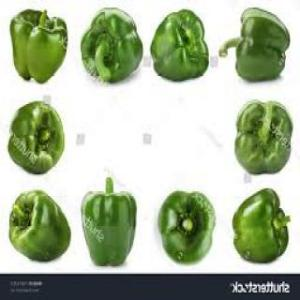bell_pepper: (76, 172, 143, 270), (2, 95, 68, 186), (154, 183, 222, 268), (218, 9, 292, 87), (229, 98, 299, 180), (74, 8, 142, 90), (146, 8, 212, 90), (5, 186, 72, 266), (228, 186, 294, 266), (6, 8, 70, 86)
